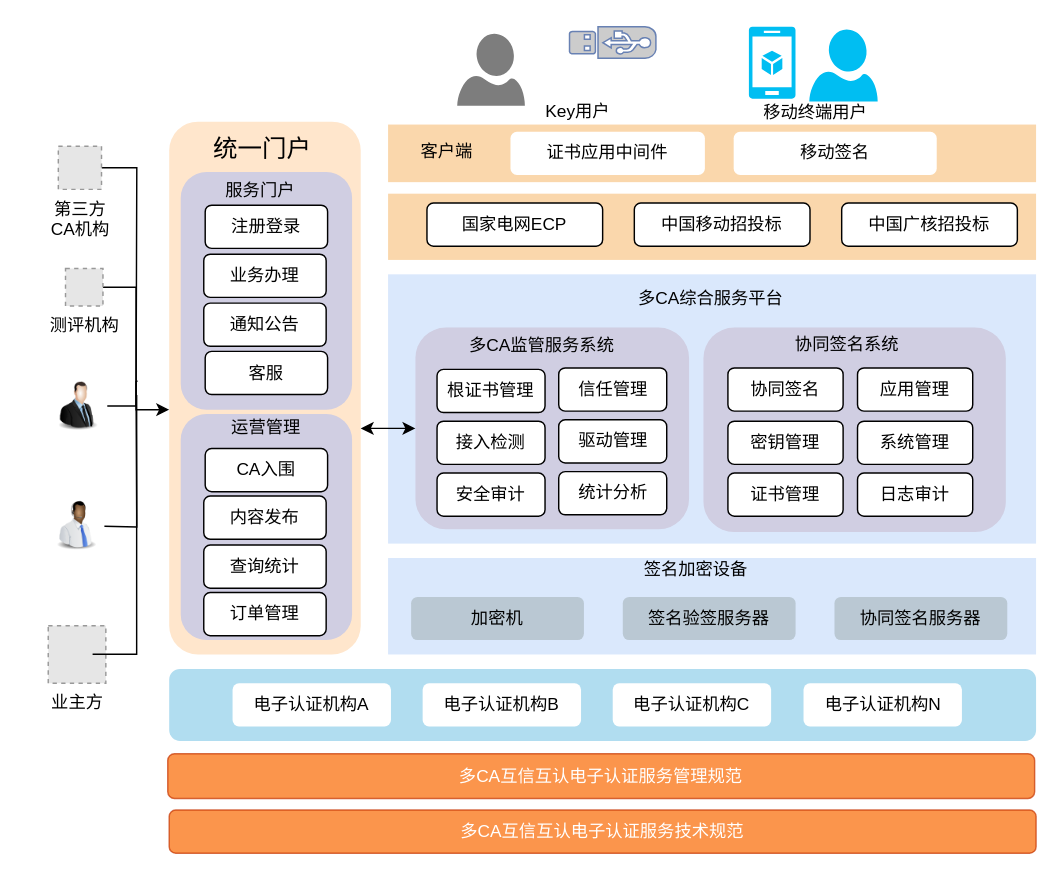
This 1061x878 diagram has some shape labels left out. Grey dashed boxes stand in for pictures. Each missing label, with the centre of its shape:
供应商: pixel 78 405
运营管理人员: pixel 76 525
